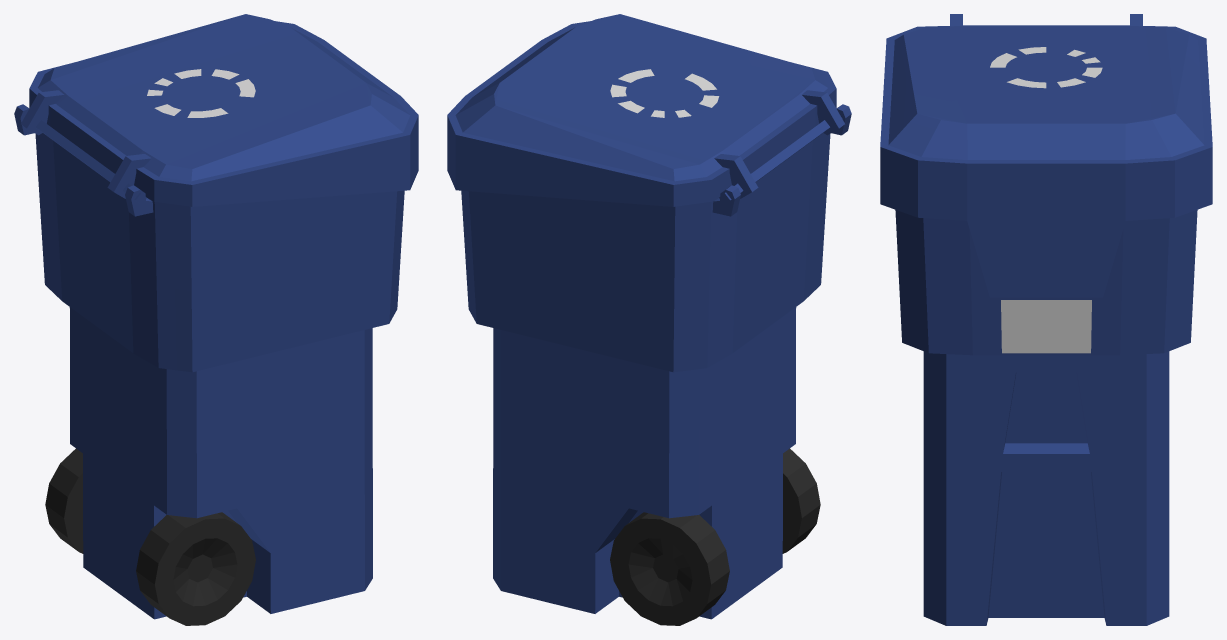
File: SM_trash_bin_3.gltf
3 renders of one model, left to right at view 1: azimuth 30°, elevation 25°; view 2: azimuth 150°, elevation 25°; view 3: azimuth 270°, elevation 25°, orthographic. The views are drawn at different scales.
Parts seen in each view (by area): view 1: SM_trash_bin_3; view 2: SM_trash_bin_3; view 3: SM_trash_bin_3.
Part boxes in pixels (x1,y1,x2,y2): SM_trash_bin_3: (14, 14, 418, 625); SM_trash_bin_3: (447, 14, 851, 625); SM_trash_bin_3: (880, 14, 1212, 625).
Size of the model in its own units: 0.7967 by 1.26 by 0.7504.
1 material, 1 textured.
